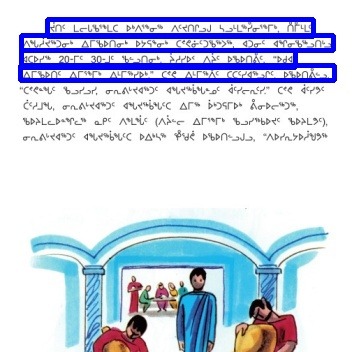inuktitut: (20, 65, 334, 80), (21, 35, 333, 50), (21, 50, 295, 67), (47, 19, 313, 36)
